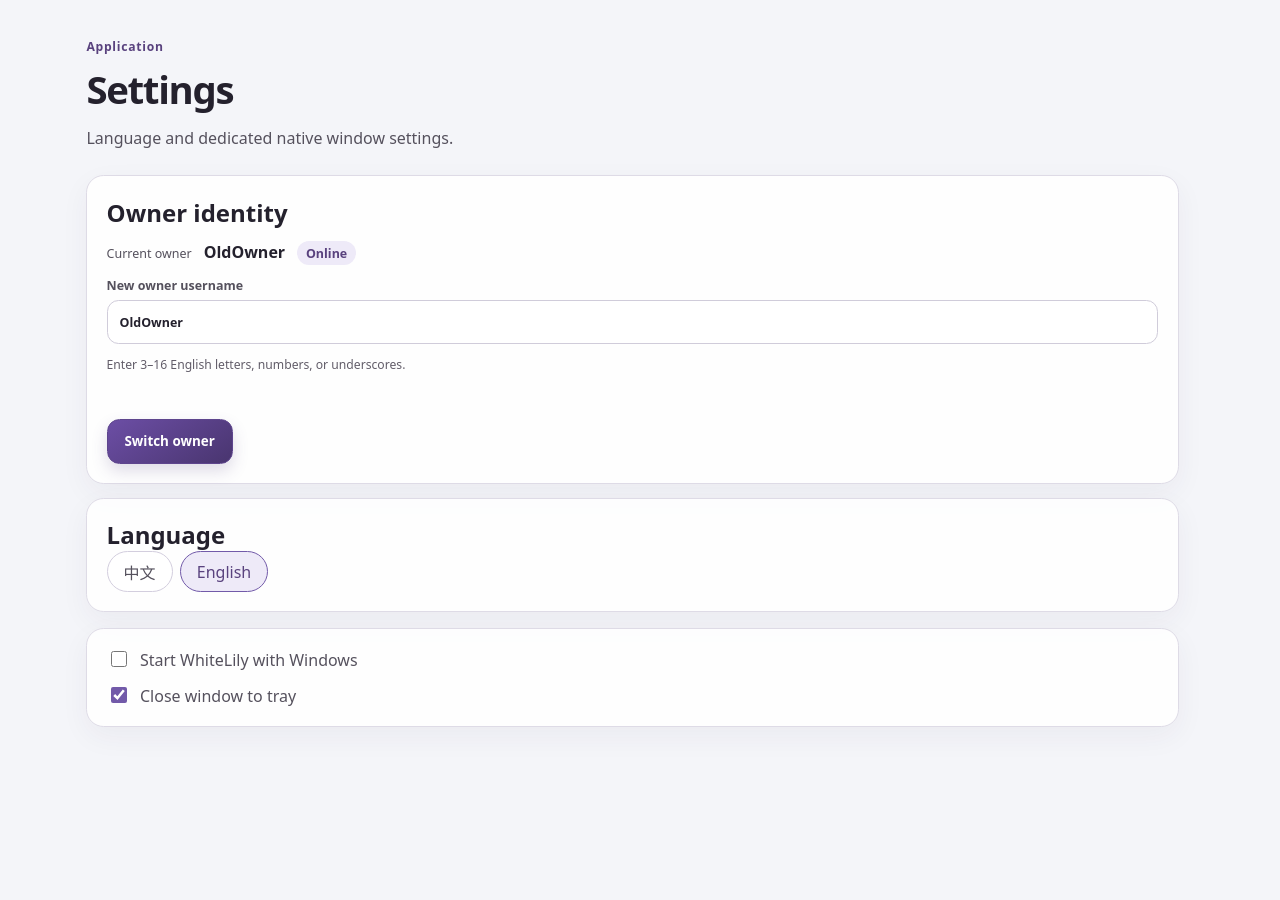
Scenario: SettingsPage › keeps authority unknown when App rejects an exact direct response
The image size is (1280, 900).
Replace the text in the field labelled "New owner username" with "NewOwner" at (632, 322), box [107,300,1158,344]
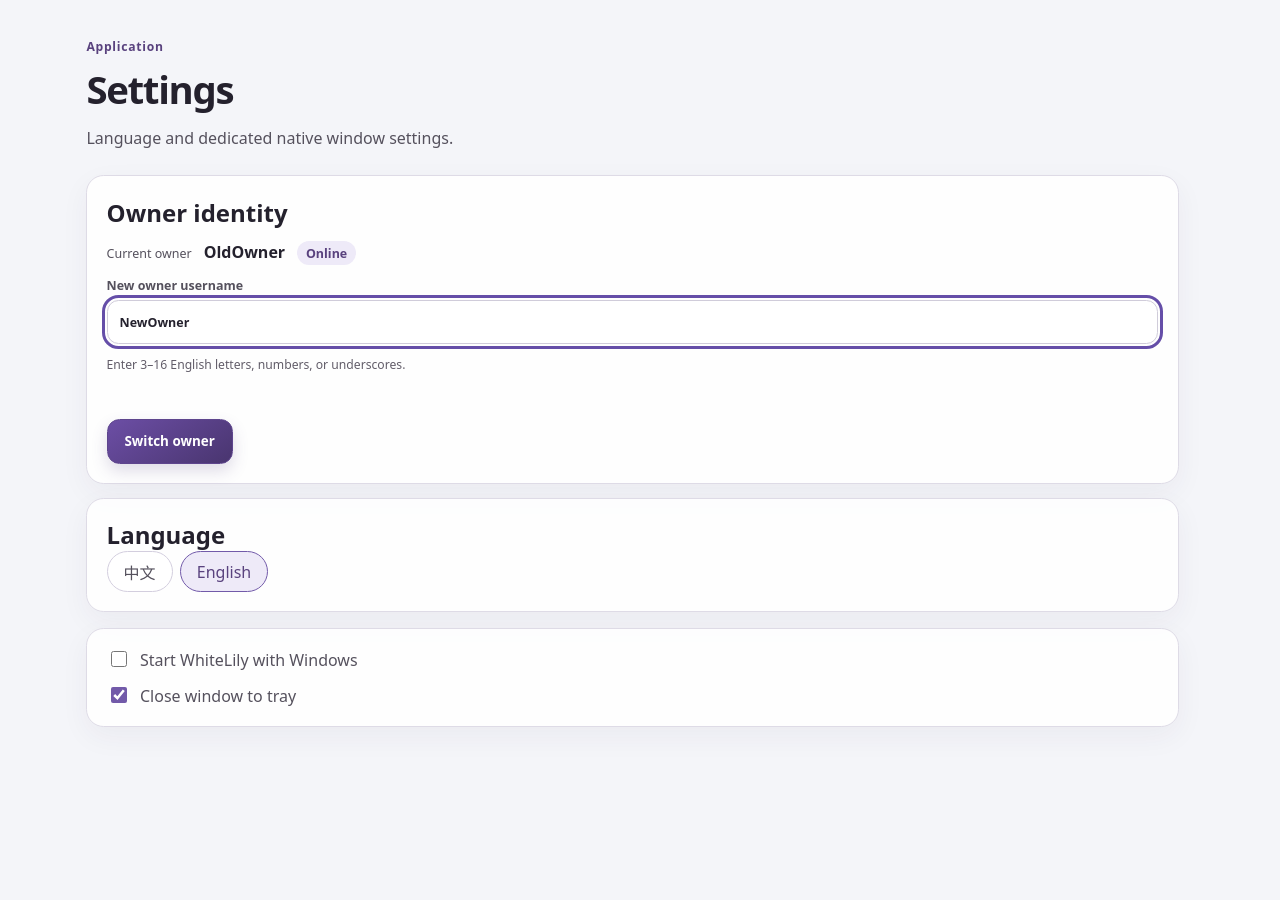
Click the button "Switch owner".
click(170, 441)  # box [107,419,233,464]
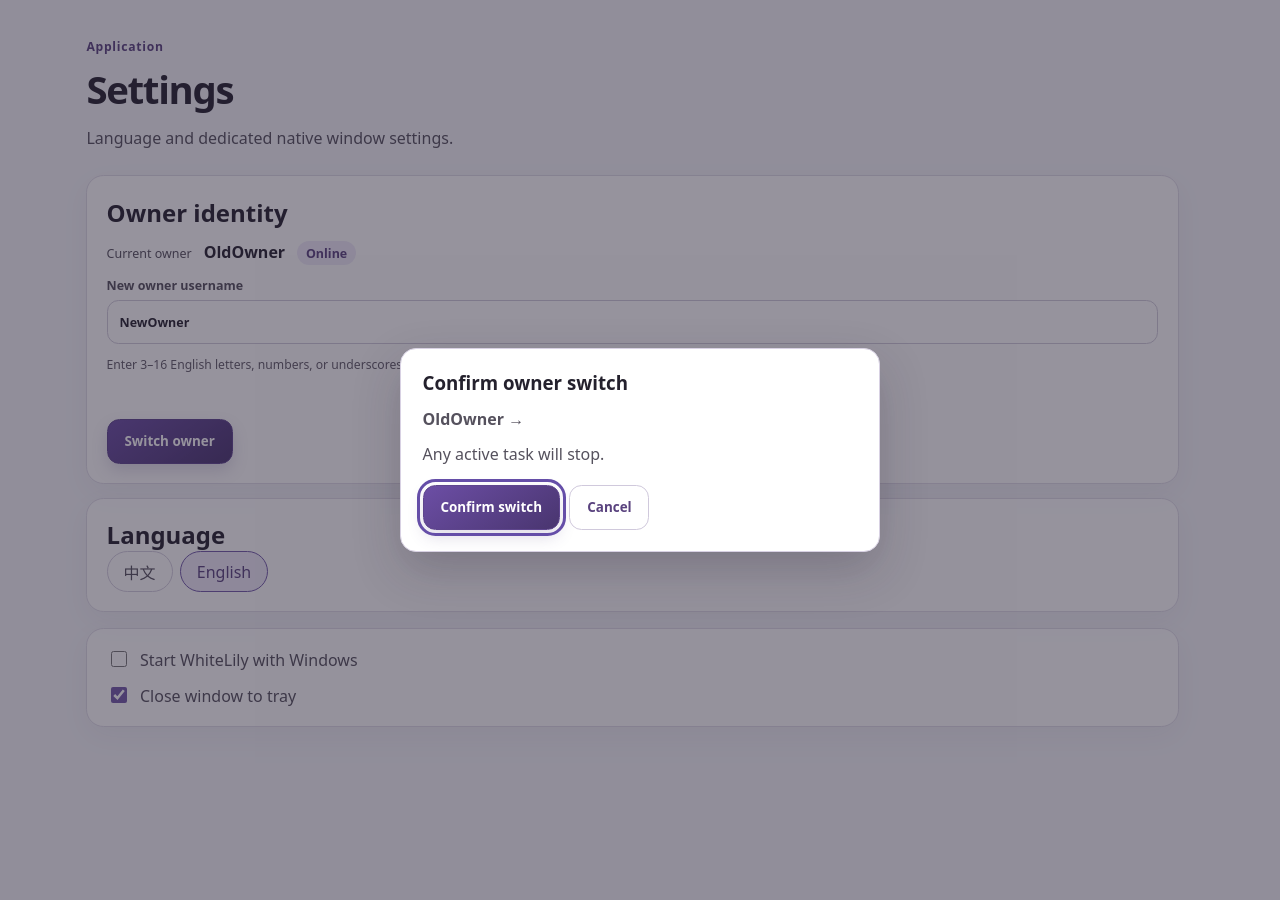
Click the button "Confirm switch".
click(491, 507)  # box [423,485,560,530]
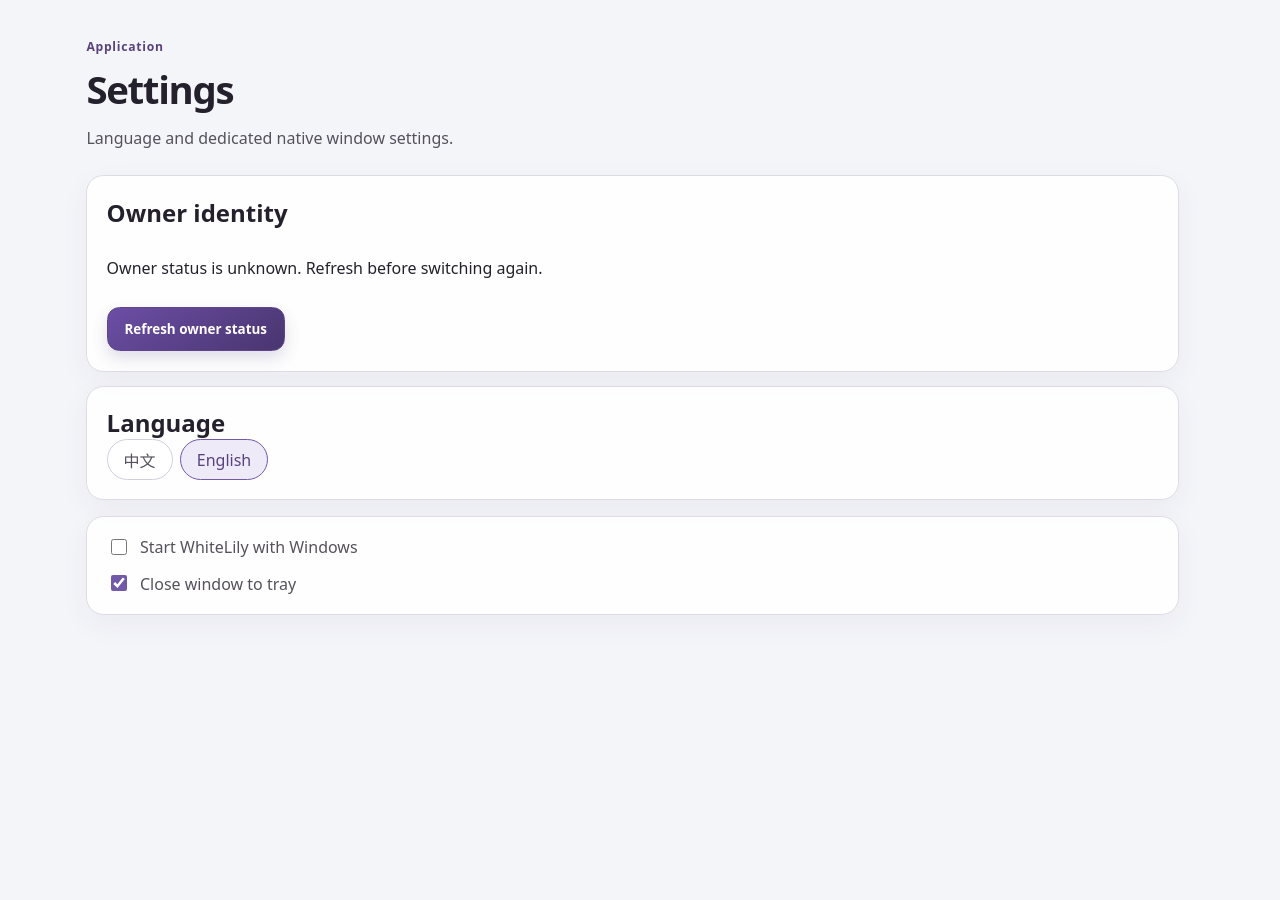
Now the text "Owner status is unknown. Refresh before switching again." is shown, box [107,256,542,278]
Now the text "OldOwner" is gone
Now the text "New owner username" is gone
